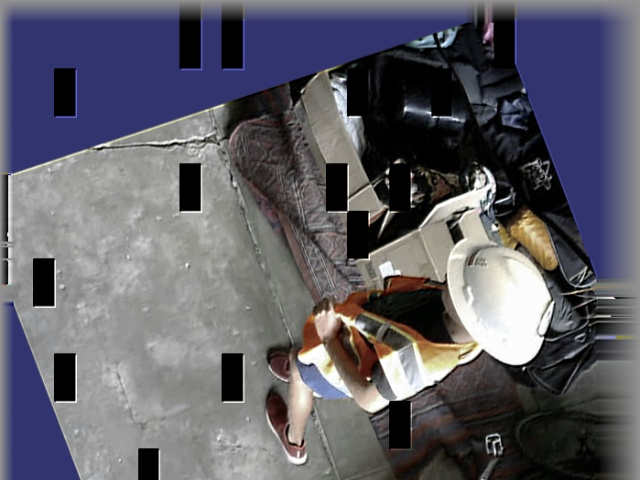one: (529, 301, 564, 336)
